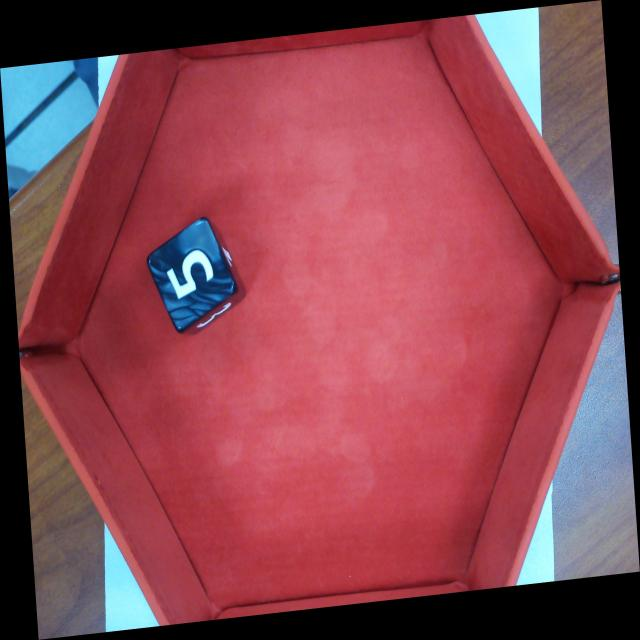dice: (145, 214, 238, 335)
